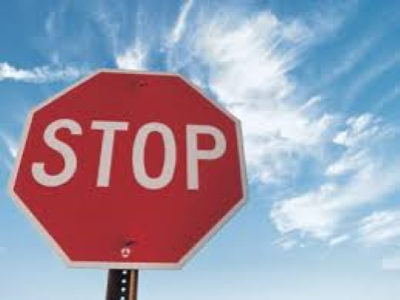stop: (24, 73, 241, 263)
